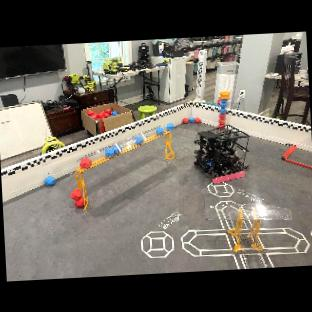Robot: (191, 124, 253, 185)
V5_BLUE: (43, 174, 58, 187), (189, 116, 195, 123)
V5_RED: (68, 187, 83, 201), (73, 196, 86, 209), (181, 117, 188, 125), (194, 117, 200, 125)
blueingoal: (132, 135, 144, 145), (104, 148, 114, 158), (112, 144, 122, 154), (165, 122, 174, 131), (155, 127, 164, 135)
blueinloader: (217, 108, 227, 113), (220, 102, 226, 108), (220, 98, 227, 102)
redingoal: (79, 158, 93, 169)
redloader: (218, 112, 227, 120), (218, 118, 227, 124), (216, 124, 224, 129)
